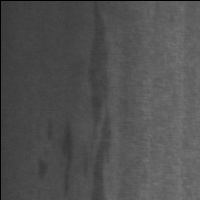inclusion: (84, 4, 116, 200), (56, 112, 80, 199), (33, 150, 54, 183)
